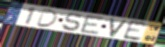1: (24, 7, 36, 25)
D: (35, 8, 60, 28)
E: (122, 19, 149, 42), (78, 14, 106, 36)
S: (61, 12, 83, 32)
V: (109, 18, 129, 38)
